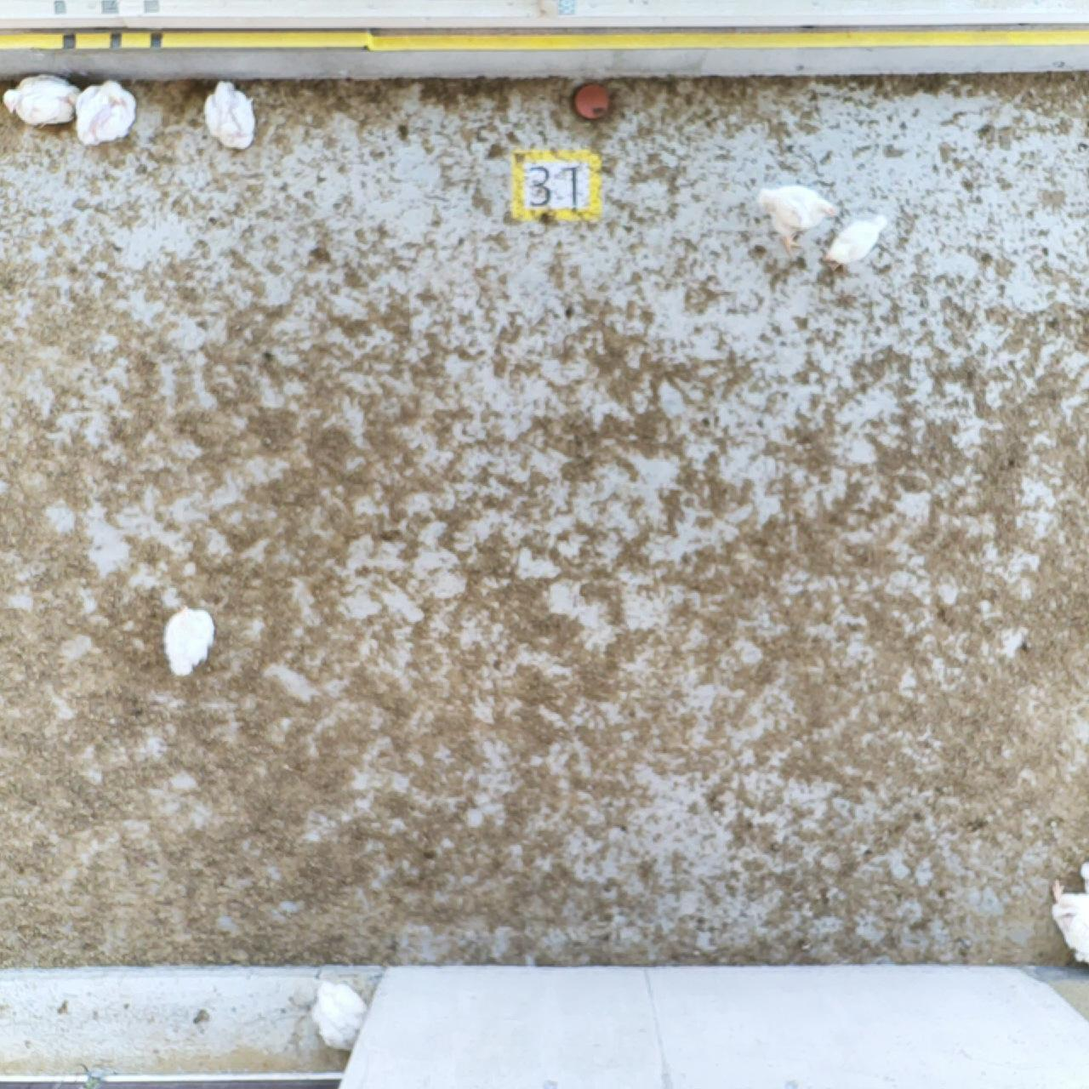chicken: (760, 188, 838, 255), (309, 972, 367, 1056), (74, 79, 133, 147), (163, 607, 219, 675), (5, 73, 77, 124), (201, 81, 254, 149), (1046, 882, 1089, 965), (828, 213, 887, 267), (1076, 863, 1089, 890)
